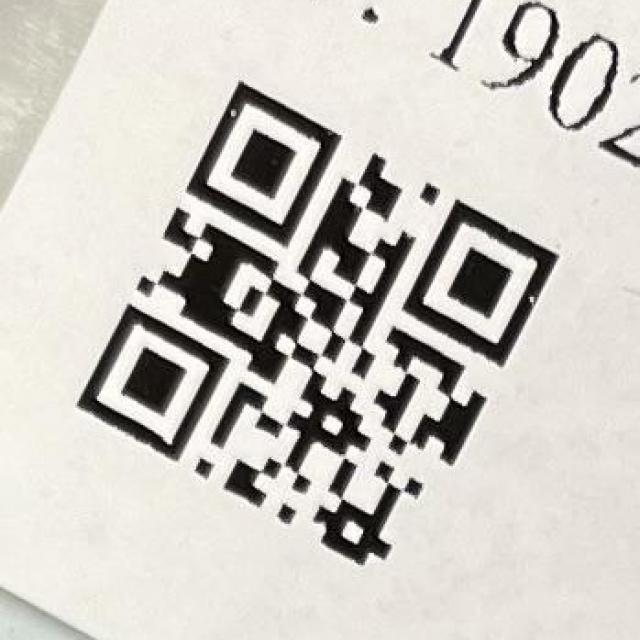QR_CODE: (76, 79, 560, 569)
